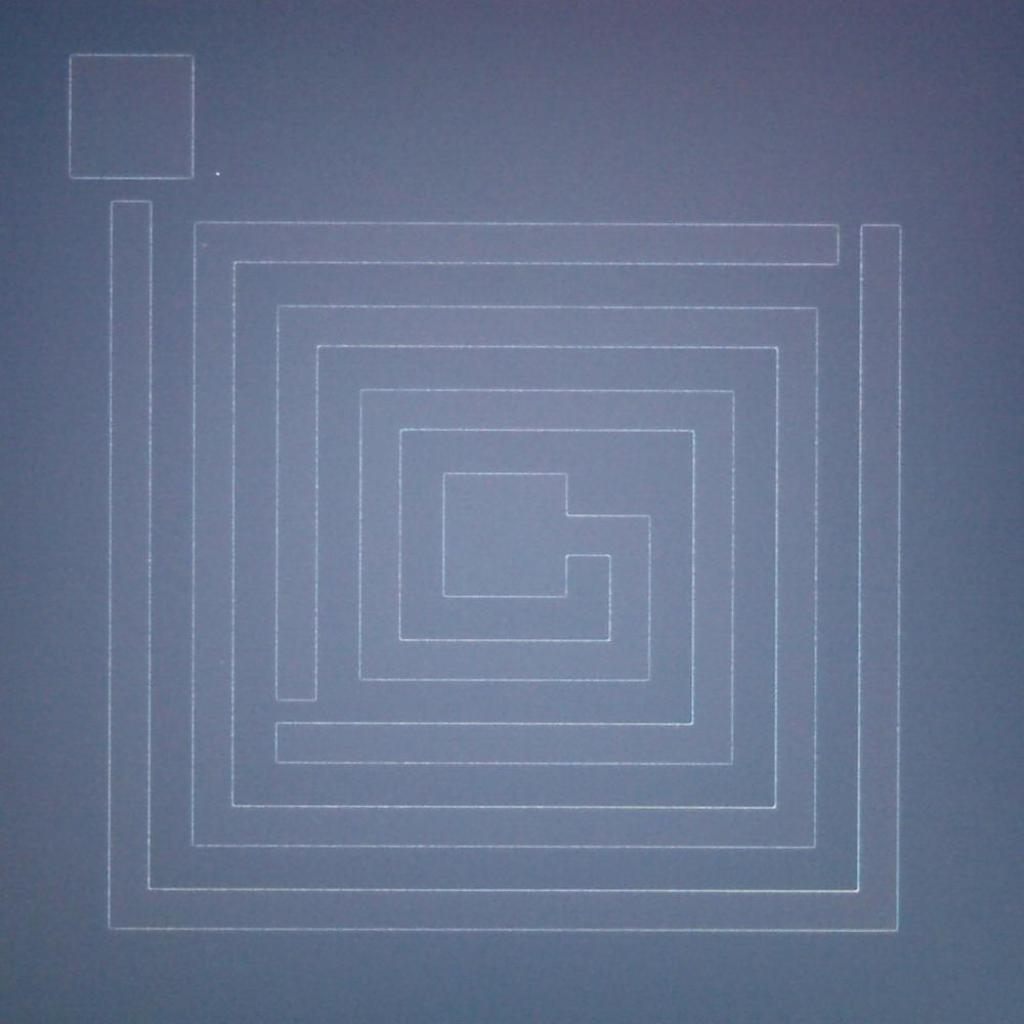short circuit: (820, 208, 878, 280), (96, 165, 165, 224), (267, 670, 328, 736)
